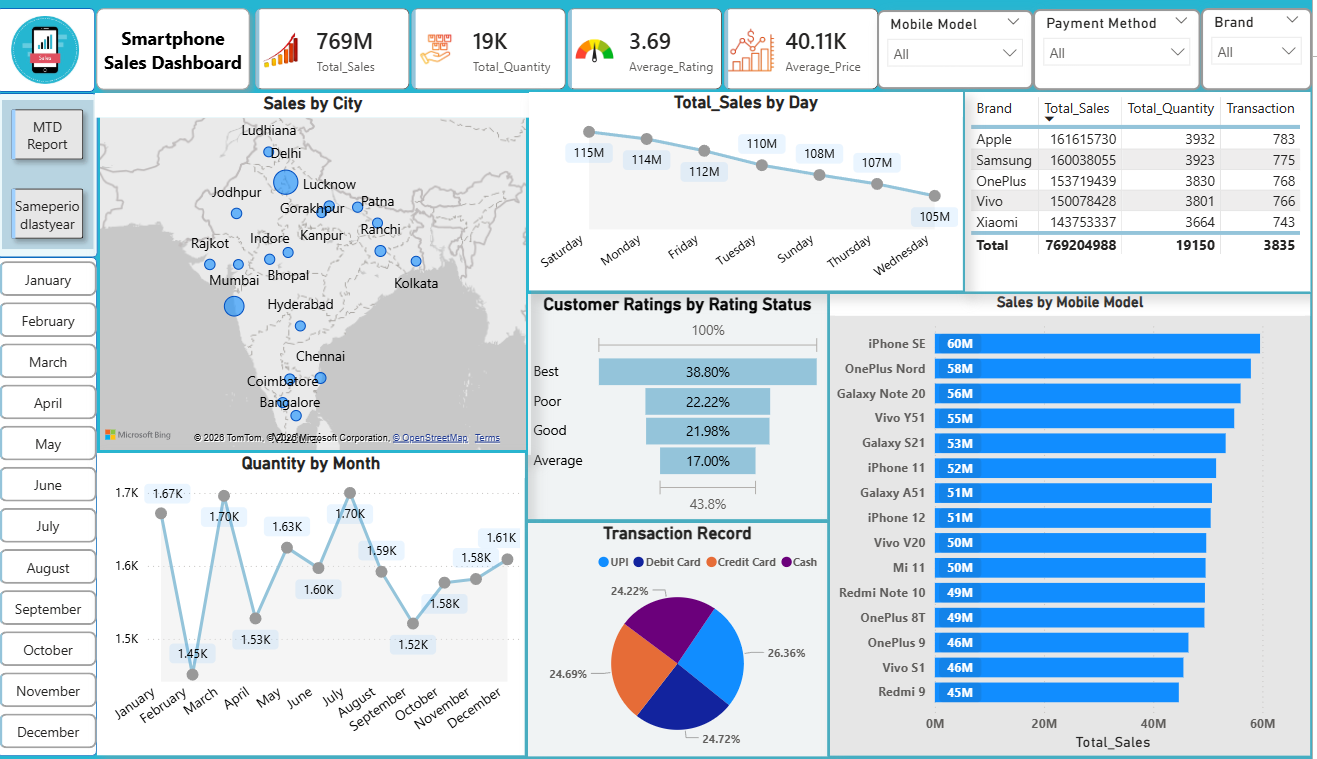

What the dashboard file says about the page in this screenshot:
{"tool":"powerbi","page":{"name":"Dashboard","canvas":[1280,740],"ordinal":0},"visuals":[{"type":"shape","box":[0,8.8,96.3,81.7],"z":0},{"type":"image","box":[7.8,16.5,80.7,66.1],"z":1000},{"type":"shape","box":[0,91.1,99,160],"z":2000},{"type":"shape","box":[0,250.9,98.2,485.3],"z":3000},{"type":"advancedSlicerVisual","fields":{"Values":["Custom_Calendar.Date.Variation.Date Hierarchy.Month"]},"box":[0,251.5,101.2,488.5],"z":4000},{"type":"cardVisual","fields":{"Data":["Measure_Table.Total_Sales","Measure_Table.Total_Quantity","Measure_Table.Average_Rating","Measure_Table.Average_Price"]},"box":[243.2,0,625.4,97.3],"z":5000},{"type":"slicer","fields":{"Values":["Mobile_Sales_Data.Mobile Model"]},"box":[856.9,10.7,151.7,76.8],"z":6000},{"type":"slicer","fields":{"Values":["Mobile_Sales_Data.Payment Method"]},"box":[1008.6,9.7,163.4,78.8],"z":7000},{"type":"slicer","fields":{"Values":["Mobile_Sales_Data.Brand"]},"box":[1172,8.8,108,80],"z":8000},{"type":"shape","box":[88.5,0,167.3,98.2],"z":9000},{"type":"funnel","title":"Customer Ratings by Rating Status","fields":{"Y":["Sum(Mobile_Sales_Data.Customer Ratings)"],"Category":["Mobile_Sales_Data.Customer_Rating_Status"]},"box":[517.4,286.9,290.8,218.8],"z":12000},{"type":"map","title":"Sales by City","fields":{"Category":["Mobile_Sales_Data.City"],"Size":["Measure_Table.Total_Sales"]},"box":[96.3,91.4,424,352.1],"z":12250},{"type":"lineChart","title":"Quantity by Month","fields":{"Category":["Custom_Calendar.Date.Variation.Date Hierarchy.Month"],"Y":["Measure_Table.Total_Quantity"]},"box":[98.4,442,416.5,294.4],"z":12500},{"type":"pieChart","title":"Transaction Record","fields":{"Category":["Mobile_Sales_Data.Payment Method"],"Y":["Measure_Table.Transaction_Count"]},"box":[517.4,509.7,290.8,227],"z":13000},{"type":"clusteredBarChart","title":"Sales by Mobile Model","fields":{"Y":["Measure_Table.Total_Sales"],"Category":["Mobile_Sales_Data.Mobile Model"]},"box":[811.2,286.9,466.9,449],"z":14000},{"type":"tableEx","fields":{"Values":["Mobile_Sales_Data.Brand","Measure_Table.Total_Sales","Measure_Table.Total_Quantity","Measure_Table.Transaction_Count"]},"box":[942.5,90.5,335.6,194],"z":16000},{"type":"areaChart","title":"Total_Sales by Day","fields":{"Y":["Measure_Table.Total_Sales"],"Category":["Custom_Calendar.Day Name"]},"box":[518.4,90.5,422,192.6],"z":16500},{"type":"pageNavigator","box":[5.8,98.2,88.5,144.9],"z":16501}]}

Visuals, with their boxes in screenshot pixels (x1, y1, x2, y2), scaled from the page's 1280x740 canvas onto the 1317x759 screenshot:
shape: bbox=(0, 9, 99, 93)
image: bbox=(8, 17, 91, 85)
shape: bbox=(0, 93, 102, 258)
shape: bbox=(0, 257, 101, 755)
advancedSlicerVisual - Custom_Calendar.Date.Variation.Date Hierarchy.Month: bbox=(0, 258, 104, 758)
cardVisual - Measure_Table.Total_Sales x Measure_Table.Total_Quantity: bbox=(250, 0, 894, 100)
slicer - Mobile_Sales_Data.Mobile Model: bbox=(882, 11, 1038, 90)
slicer - Mobile_Sales_Data.Payment Method: bbox=(1038, 10, 1206, 91)
slicer - Mobile_Sales_Data.Brand: bbox=(1206, 9, 1316, 91)
shape: bbox=(91, 0, 263, 101)
"Customer Ratings by Rating Status" funnel: bbox=(532, 294, 832, 519)
"Sales by City" map: bbox=(99, 94, 535, 455)
"Quantity by Month" lineChart: bbox=(101, 453, 530, 755)
"Transaction Record" pieChart: bbox=(532, 523, 832, 756)
"Sales by Mobile Model" clusteredBarChart: bbox=(835, 294, 1315, 755)
tableEx - Mobile_Sales_Data.Brand x Measure_Table.Total_Sales: bbox=(970, 93, 1315, 292)
"Total_Sales by Day" areaChart: bbox=(533, 93, 968, 290)
pageNavigator: bbox=(6, 101, 97, 249)
